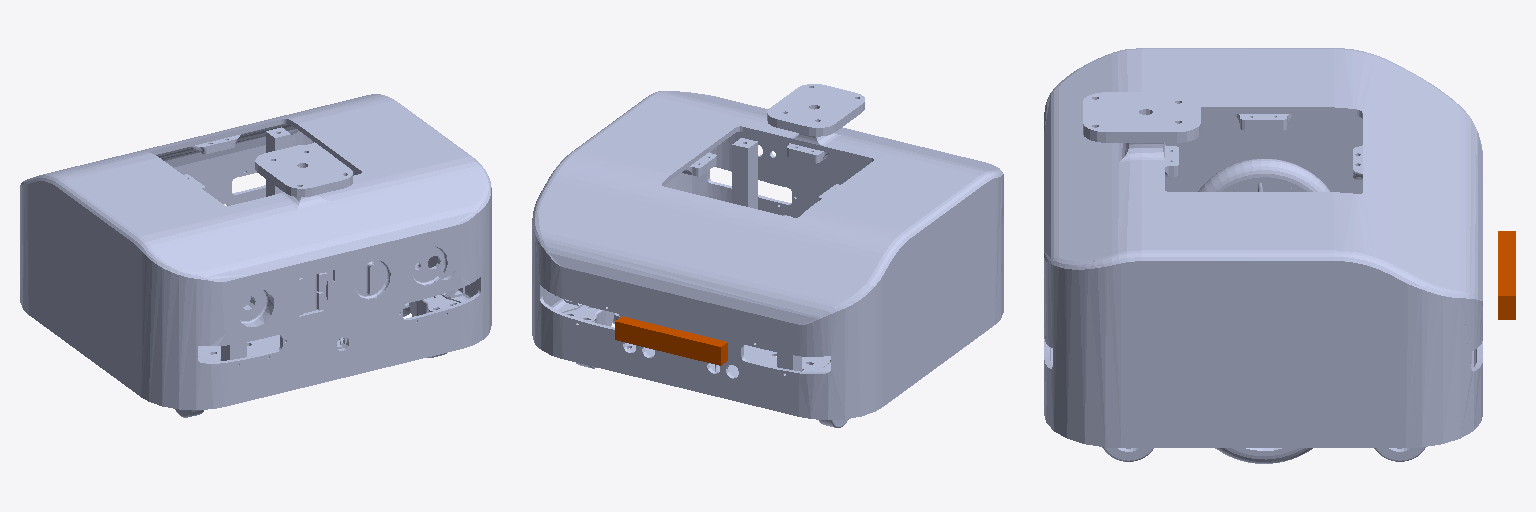
URDF robot description (urdf_assem):
<!-- <?xml version="1.0" encoding="utf-8"?> -->
<!-- This URDF was automatically created by SolidWorks to URDF Exporter! Originally created by Stephen Brawner (brawner@gmail.com) 
     Commit Version: 1.6.0-4-g7f85cfe  Build Version: 1.6.7995.38578
     For more information, please see http://wiki.ros.org/sw_urdf_exporter -->
<robot
  name="urdf_assem">
  <!-- add virtual joint between base_link and base_footprint-->
   <!-- <link name="base_footprint" />
  <joint name="base_footprint_joint" type="fixed">
  <origin
    xyz="0 0 0" rpy="0 0 0" />
  <parent link="base_footprint" />
  <child link="base_link" />
  </joint> -->

  <link
    name="base_link">
    <inertial>
      <origin
        xyz="-0.00080258 -0.010357 0.12082"
        rpy="0 0 0" />
      <mass
        value="3.3192" />
      <inertia
        ixx="0.049572"
        ixy="-0.00047719"
        ixz="-1.0982E-05"
        iyy="0.058318"
        iyz="0.0017019"
        izz="0.090114" />
    </inertial>
    <visual>
      <origin
        xyz="0 0 0"
        rpy="0 0 0" />
      <geometry>
        <mesh
          filename="package://nav2/meshes/base_link.STL" />
      </geometry>
      <material
        name="">
        <color
          rgba="0.79216 0.81961 0.93333 1" />
      </material>
    </visual>
    <collision>
      <origin
        xyz="0 0 0"
        rpy="0 0 0" />
      <geometry>
        <mesh
          filename="package://nav2/meshes/base_link.STL" />
      </geometry>
    </collision>
  </link>
  <link
    name="right_wheel">
    <inertial>
      <origin
        xyz="-6.4768E-14 1.7719E-14 -2.6336E-05"
        rpy="0 0 0" />
      <mass
        value="0.15848" />
      <inertia
        ixx="0.00022462"
        ixy="-5.5039E-17"
        ixz="-7.6715E-17"
        iyy="0.00022462"
        iyz="1.9887E-17"
        izz="0.00043866" />
    </inertial>
    <visual>
      <origin
        xyz="0 0 0"
        rpy="0 0 0" />
      <geometry>
        <mesh
          filename="package://nav2/meshes/right_wheel.STL" />
      </geometry>
      <material
        name="">
        <color
          rgba="0.79216 0.81961 0.93333 1" />
      </material>
    </visual>
    <collision>
      <origin
        xyz="0 0 0"
        rpy="0 0 0" />
      <geometry>
        <mesh
          filename="package://nav2/meshes/right_wheel.STL" />
      </geometry>
    </collision>
  </link>
  <joint
    name="right_wheel_joint"
    type="continuous">
    <origin
      xyz="0.15942 0.0005 0.0667"
      rpy="0 1.5708 0" />
    <parent
      link="base_link" />
    <child
      link="right_wheel" />
    <axis
      xyz="0 0 1" />
  </joint>
  <link
    name="left_wheel">
    <inertial>
      <origin
        xyz="-3.221E-14 6.0768E-14 -0.31752"
        rpy="0 0 0" />
      <mass
        value="0.15848" />
      <inertia
        ixx="0.00022462"
        ixy="-7.1334E-17"
        ixz="-3.8956E-17"
        iyy="0.00022462"
        iyz="7.0764E-17"
        izz="0.00043866" />
    </inertial>
    <visual>
      <origin
        xyz="0 0 0.31884"
        rpy="0 0 0" />
      <geometry>
        <mesh
          filename="package://nav2/meshes/left_wheel.STL" />
      </geometry>
      <material
        name="">
        <color
          rgba="0.79216 0.81961 0.93333 1" />
      </material>
    </visual>
    <collision>
      <origin
        xyz="0 0 0.31884"
        rpy="0 0 0" />
      <geometry>
        <mesh
          filename="package://nav2/meshes/left_wheel.STL" />
      </geometry>
    </collision>
  </link>
  <joint
    name="left_wheel_joint"
    type="continuous">
    <origin
      xyz="-0.15942 0.0005 0.0667"
      rpy="0 1.5708 0" />
    <parent
      link="base_link" />
    <child
      link="left_wheel" />
    <axis
      xyz="0 0 1" />
  </joint>
  <link
    name="laser">
    <inertial>
      <origin
        xyz="0.0016703 0.010632 -0.018432"
        rpy="0 0 0" />
      <mass
        value="0.073084" />
      <inertia
        ixx="2.4125E-05"
        ixy="1.0387E-07"
        ixz="-9.4546E-09"
        iyy="1.9581E-05"
        iyz="-4.2835E-07"
        izz="4.1418E-05" />
    </inertial>
    <visual>
      <origin
        xyz="0 0 0"
        rpy="0 0 0" />
      <geometry>
        <mesh
          filename="package://nav2/meshes/lidar.STL" />
      </geometry>
      <material
        name="">
        <color
          rgba="0.79216 0.81961 0.93333 1" />
      </material>
    </visual>
    <collision>
      <origin
        xyz="0 0 0"
        rpy="0 0 0" />
      <geometry>
        <mesh
          filename="package://nav2/meshes/lidar.STL" />
      </geometry>
    </collision>
  </link>
  <joint
    name="laser" type="fixed">
    <origin
      xyz="-0.0011383 -0.11245 0.29097"
      rpy="0 0 0" />
    <parent
      link="base_link" />
    <child
      link="laser" />
    <axis
      xyz="0 0 0" />
  </joint>

  <link name="imu_link"/>

  <joint name="imu_joint" type="fixed">
    <origin xyz="0 0 0.1" rpy="0 0 0"/>
    <parent link="base_link"/>
    <child link="imu_link"/>
  </joint>

 <gazebo reference="imu_link">
  <sensor name="imu_sensor" type="imu">
   <plugin filename="libgazebo_ros_imu_sensor.so" name="imu_plugin">
      <ros>
        <remapping>~/out:=imu</remapping>
      </ros>
      <initial_orientation_as_reference>false</initial_orientation_as_reference>
    </plugin>
    <always_on>true</always_on>
    <update_rate>100</update_rate>
    <visualize>true</visualize>
    <imu>
      <angular_velocity>
        <x>
          <noise type="gaussian">
            <mean>0.0</mean>
            <stddev>2e-4</stddev>
            <bias_mean>0.0000075</bias_mean>
            <bias_stddev>0.0000008</bias_stddev>
          </noise>
        </x>
        <y>
          <noise type="gaussian">
            <mean>0.0</mean>
            <stddev>2e-4</stddev>
            <bias_mean>0.0000075</bias_mean>
            <bias_stddev>0.0000008</bias_stddev>
          </noise>
        </y>
        <z>
          <noise type="gaussian">
            <mean>0.0</mean>
            <stddev>2e-4</stddev>
            <bias_mean>0.0000075</bias_mean>
            <bias_stddev>0.0000008</bias_stddev>
          </noise>
        </z>
      </angular_velocity>
      <linear_acceleration>
        <x>
          <noise type="gaussian">
            <mean>0.0</mean>
            <stddev>1.7e-2</stddev>
            <bias_mean>0.1</bias_mean>
            <bias_stddev>0.001</bias_stddev>
          </noise>
        </x>
        <y>
          <noise type="gaussian">
            <mean>0.0</mean>
            <stddev>1.7e-2</stddev>
            <bias_mean>0.1</bias_mean>
            <bias_stddev>0.001</bias_stddev>
          </noise>
        </y>
        <z>
          <noise type="gaussian">
            <mean>0.0</mean>
            <stddev>1.7e-2</stddev>
            <bias_mean>0.1</bias_mean>
            <bias_stddev>0.001</bias_stddev>
          </noise>
        </z>
      </linear_acceleration>
    </imu>
  </sensor>
</gazebo>

<gazebo>
  <plugin name='diff_drive' filename='libgazebo_ros_diff_drive.so'>
    <ros>
    </ros> 
    <!-- wheels -->
    <left_joint>left_wheel_joint</left_joint>
    <right_joint>right_wheel_joint</right_joint>

    <!-- kinematics -->
    <wheel_separation>0.31884</wheel_separation>
    <wheel_diameter>0.14</wheel_diameter>

    <!-- limits -->
    <max_wheel_torque>10</max_wheel_torque>
    <max_wheel_acceleration>1.0</max_wheel_acceleration>

    <!-- output -->
    <publish_odom>true</publish_odom>
    <publish_odom_tf>true</publish_odom_tf>
    <publish_wheel_tf>true</publish_wheel_tf>

    <odometry_frame>odom</odometry_frame>
    <robot_base_frame>base_link</robot_base_frame>
  </plugin>
</gazebo>

<gazebo reference="laser">
  <sensor name="lidar" type="ray">
    <always_on>true</always_on>
    <visualize>true</visualize>
    <update_rate>5</update_rate>
    <ray>
      <scan>
        <horizontal>
          <samples>360</samples>
          <resolution>1.000000</resolution>
          <min_angle>0.000000</min_angle>
          <max_angle>6.280000</max_angle>
        </horizontal>
      </scan>
      <range>
        <min>0.22</min>
        <max>12.0</max>
        <resolution>0.015000</resolution>
      </range>
      <noise>
        <type>gaussian</type>
        <mean>0.0</mean>
        <stddev>0.01</stddev>
      </noise>
    </ray>
    <plugin name="scan" filename="libgazebo_ros_ray_sensor.so">
      <ros>
        <remapping>~/out:=scan</remapping>
      </ros>
      <output_type>sensor_msgs/LaserScan</output_type>
      <frame_name>laser</frame_name>
    </plugin>
  </sensor>
</gazebo>

<link name="camera_link">
  <visual>
    <origin xyz="0 0 0" rpy="0 0 0"/>
    <geometry>
      <box size="0.015 0.130 0.022"/>
    </geometry>
  </visual>

  <collision>
    <origin xyz="0 0 0" rpy="0 0 0"/>
    <geometry>
      <box size="0.015 0.130 0.022"/>
    </geometry>
  </collision>

  <inertial>
    <origin xyz="0 0 0" rpy="0 0 0"/>
    <mass value="0.035"/>
    <inertia ixx="0.001"  ixy="0"  ixz="0" iyy="0.001" iyz="0" izz="0.001" />
  </inertial>
</link>

<joint name="camera_joint" type="fixed">
  <parent link="base_link"/>
  <child link="camera_link"/>
  <origin xyz="0 0.205 0.1" rpy="0 0 1.5708"/>
</joint>

<link name="camera_depth_frame"/>

<joint name="camera_depth_joint" type="fixed">
  <origin xyz="0 0 0" rpy="-1.57079633  0 -1.57079633 "/>
  <parent link="camera_link"/>
  <child link="camera_depth_frame"/>
</joint>

<gazebo reference="camera_link">
  <sensor name="depth_camera" type="depth">
    <visualize>true</visualize>
    <update_rate>30.0</update_rate>
    <camera name="camera">
      <horizontal_fov>1.047198</horizontal_fov>
      <image>
        <width>640</width>
        <height>480</height>
        <format>R8G8B8</format>
      </image>
      <clip>
        <near>0.05</near>
        <far>3</far>
      </clip>
    </camera>
    <plugin name="depth_camera_controller" filename="libgazebo_ros_camera.so">
      <baseline>0.2</baseline>
      <alwaysOn>true</alwaysOn>
      <updateRate>0.0</updateRate>
      <frame_name>camera_depth_frame</frame_name>
      <pointCloudCutoff>0.5</pointCloudCutoff>
      <pointCloudCutoffMax>3.0</pointCloudCutoffMax>
      <distortionK1>0</distortionK1>
      <distortionK2>0</distortionK2>
      <distortionK3>0</distortionK3>
      <distortionT1>0</distortionT1>
      <distortionT2>0</distortionT2>
      <CxPrime>0</CxPrime>
      <Cx>0</Cx>
      <Cy>0</Cy>
      <focalLength>0</focalLength>
      <hackBaseline>0</hackBaseline>
    </plugin>
  </sensor>
</gazebo>

</robot>

--- What the picture shows (computed from the rendered views, not written in the file) ---
The picture shows the robot from 3 angles, left to right: view 1: azimuth 30°, elevation 25°; view 2: azimuth 150°, elevation 25°; view 3: azimuth 270°, elevation 25°; orthographic projection.
Model urdf_assem with 7 links and 6 joints (2 continuous, 4 fixed), rooted at base_link, posed all joints at 0.
Links seen in each view (by area): view 1: base_link; view 2: base_link, camera_link; view 3: base_link, left_wheel, camera_link, right_wheel.
Boxes of the visible links, x1,y1,x2,y2 form: base_link: (20,94,491,417); base_link: (532,84,1003,427); camera_link: (615,316,727,365); base_link: (1044,48,1482,461); left_wheel: (1198,159,1329,191); camera_link: (1498,231,1515,319); right_wheel: (1215,448,1312,463).
Size in the robot's own frame: 0.42 by 0.3975 by 0.252 metres.
3 mesh visuals loaded from 4 distinct referenced files (3 binary STL); not drawn: 1 (reference not matched to a file when rendering).
